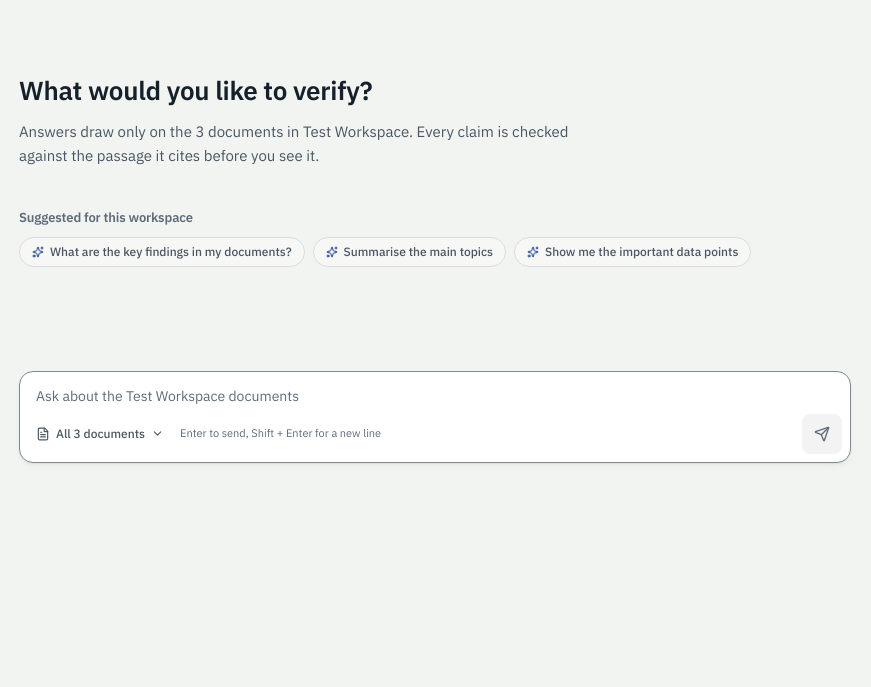
Test: ChatPage › backfills an exhibit page number from a claim citing the same chunk (BUG-8: fresh answers omit Source.page_number)
Type "Summarise revenue" into the text box named "Ask a question about this workspace" at (435,391), box [20,372,850,410]
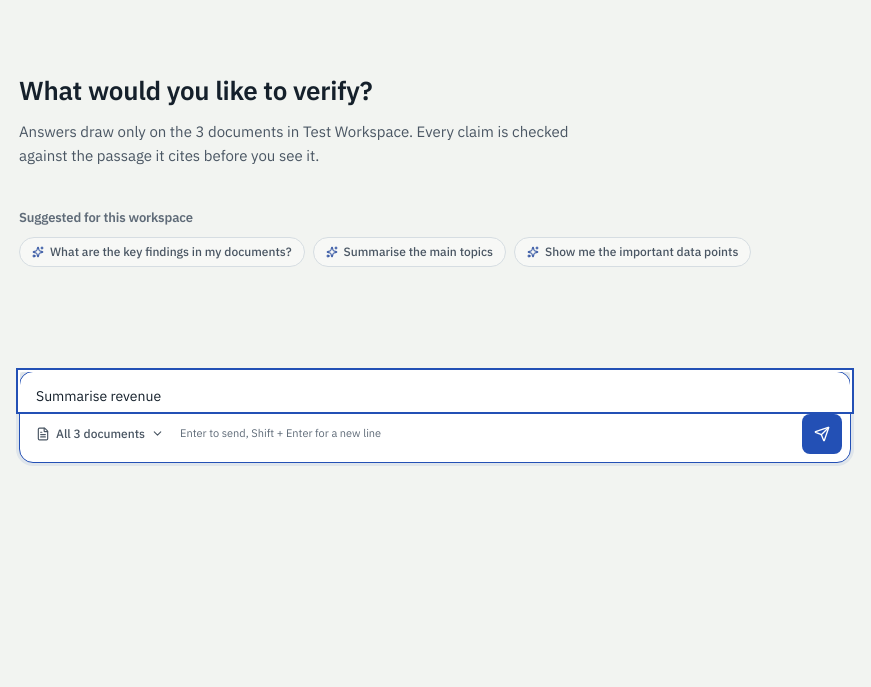
Press Enter
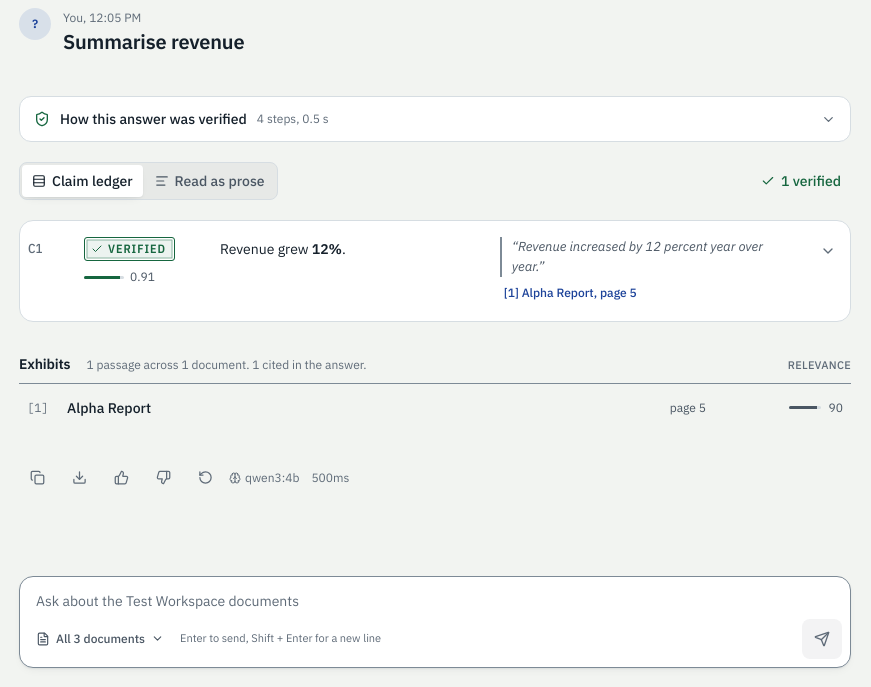
Now the button "[1] Alpha Report, page 5" is shown, box [500,281,641,305]
